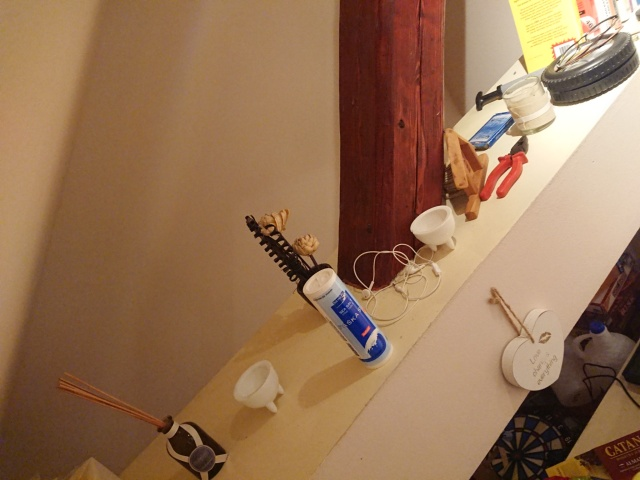Solana Pag Fine Sea Salt 250g: (299, 265, 397, 372)
